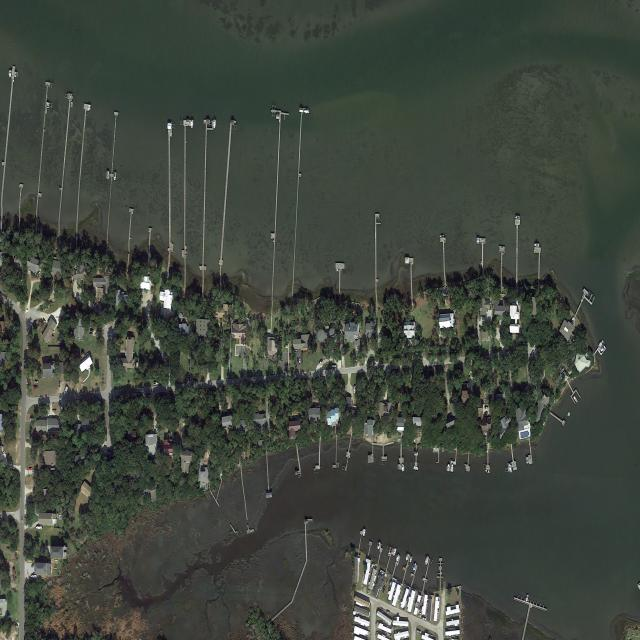ship: (395, 554, 400, 563), (600, 345, 606, 352), (559, 368, 565, 375), (425, 556, 429, 566), (35, 525, 43, 530), (508, 464, 512, 474), (8, 70, 12, 79), (393, 548, 397, 557), (573, 396, 578, 403), (377, 542, 381, 550), (406, 553, 410, 561), (413, 563, 417, 571), (87, 104, 91, 112), (413, 466, 419, 471), (485, 469, 491, 474), (409, 556, 413, 563), (30, 575, 37, 579), (213, 120, 216, 129), (353, 385, 356, 394), (114, 172, 117, 180), (191, 120, 194, 128), (28, 267, 31, 275), (402, 464, 405, 472), (363, 529, 366, 537), (447, 464, 450, 472), (526, 457, 529, 464), (304, 110, 309, 114), (534, 243, 539, 247), (107, 171, 109, 180), (451, 464, 453, 472), (515, 216, 520, 219), (153, 382, 158, 385), (136, 363, 138, 370), (477, 238, 479, 244), (440, 235, 444, 238)
small-vehicle: (36, 271, 41, 279), (382, 586, 386, 594), (319, 359, 323, 366), (416, 629, 421, 634), (33, 320, 37, 326), (398, 596, 401, 603), (294, 349, 297, 356), (2, 295, 7, 299), (31, 563, 35, 568), (419, 605, 422, 611), (367, 589, 370, 595), (468, 377, 471, 383), (422, 617, 426, 621), (386, 610, 390, 614), (299, 357, 301, 365), (188, 359, 190, 366), (289, 353, 291, 360), (297, 357, 299, 364), (188, 375, 190, 381), (77, 293, 79, 299), (90, 329, 94, 332), (89, 332, 93, 335), (35, 380, 39, 383), (34, 386, 38, 389), (21, 517, 23, 523), (332, 365, 336, 368), (484, 406, 488, 409), (485, 411, 488, 415), (419, 613, 421, 618), (29, 467, 32, 470), (59, 381, 60, 387), (189, 368, 190, 373)
